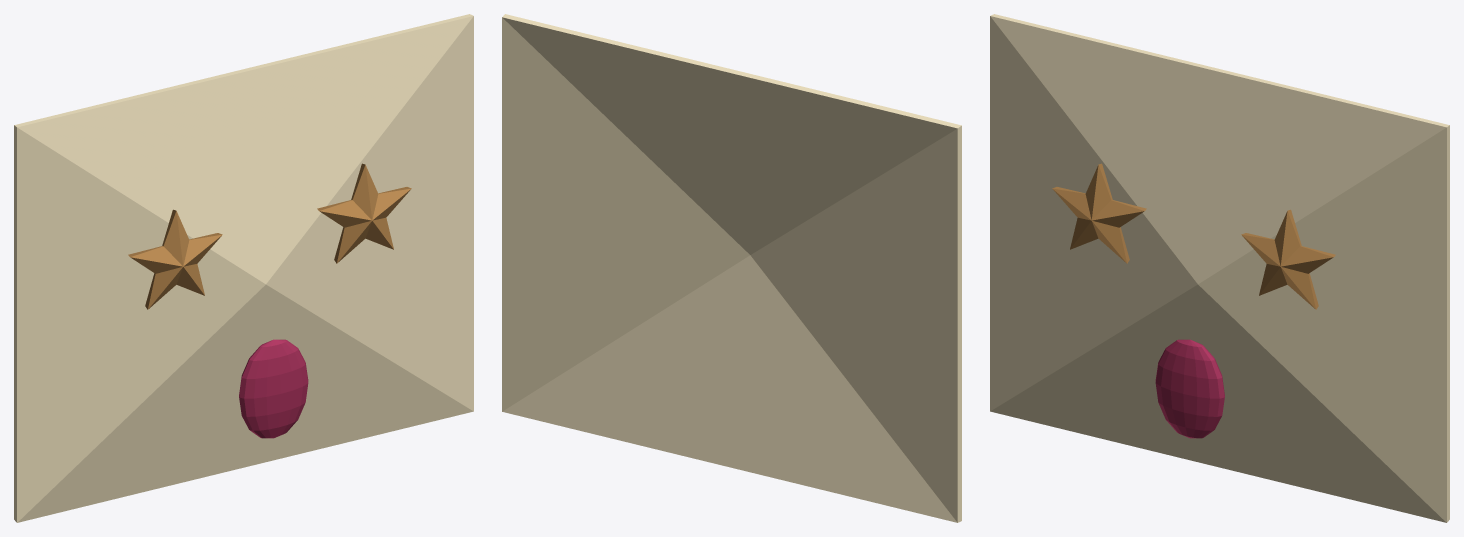
The model's file is Face_emote_fireworks.fbx.
The picture shows the model from 3 angles, left to right: view 1: azimuth 30°, elevation 25°; view 2: azimuth 150°, elevation 25°; view 3: azimuth 330°, elevation 25°; orthographic projection.
Parts seen in each view (by area): view 1: Face_emote_fireworks.Mesh; view 2: Face_emote_fireworks.Mesh; view 3: Face_emote_fireworks.Mesh.
Boxes of the visible parts, bbox=[...] form: Face_emote_fireworks.Mesh: bbox=[14, 14, 473, 522]; Face_emote_fireworks.Mesh: bbox=[502, 14, 961, 522]; Face_emote_fireworks.Mesh: bbox=[990, 14, 1449, 522].
Bounding box in the file's own units: 58 × 48 × 8.49.
